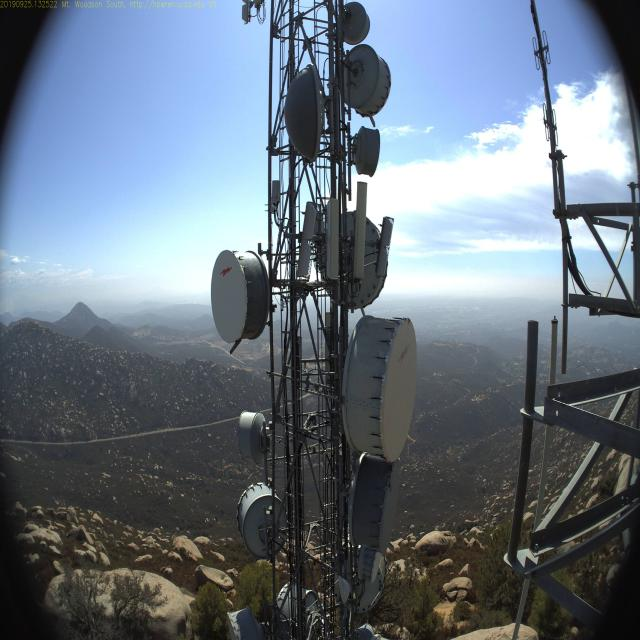smoke: (0, 290, 17, 318)
